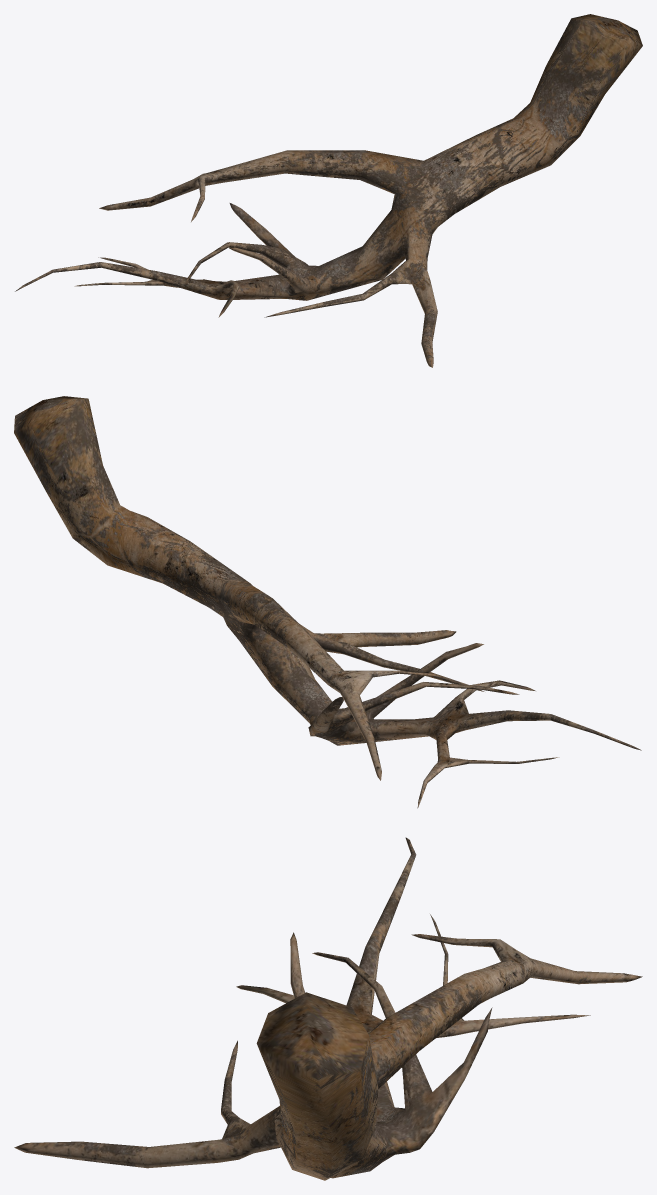
The model's file is Roots2.fbx.
3 renders of one model, top to bottom at view 1: azimuth 30°, elevation 25°; view 2: azimuth 150°, elevation 25°; view 3: azimuth 270°, elevation 25°, orthographic. The views are drawn at different scales.
Visible parts, largest first — view 1: SideRoots; view 2: SideRoots; view 3: SideRoots.
Part boxes in pixels (box(x1,y1,x2,y2)): SideRoots: box(15, 14, 642, 367); SideRoots: box(14, 396, 641, 808); SideRoots: box(14, 837, 642, 1180).
Size of the model in its own units: 2372 by 888 by 1389.
1 material, 1 textured.
